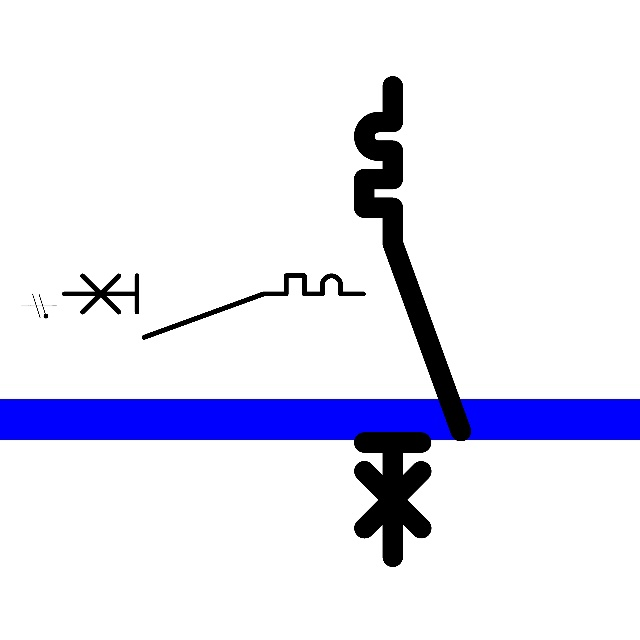interruptor_termomagnetico: (352, 74, 473, 569), (56, 268, 370, 345)
